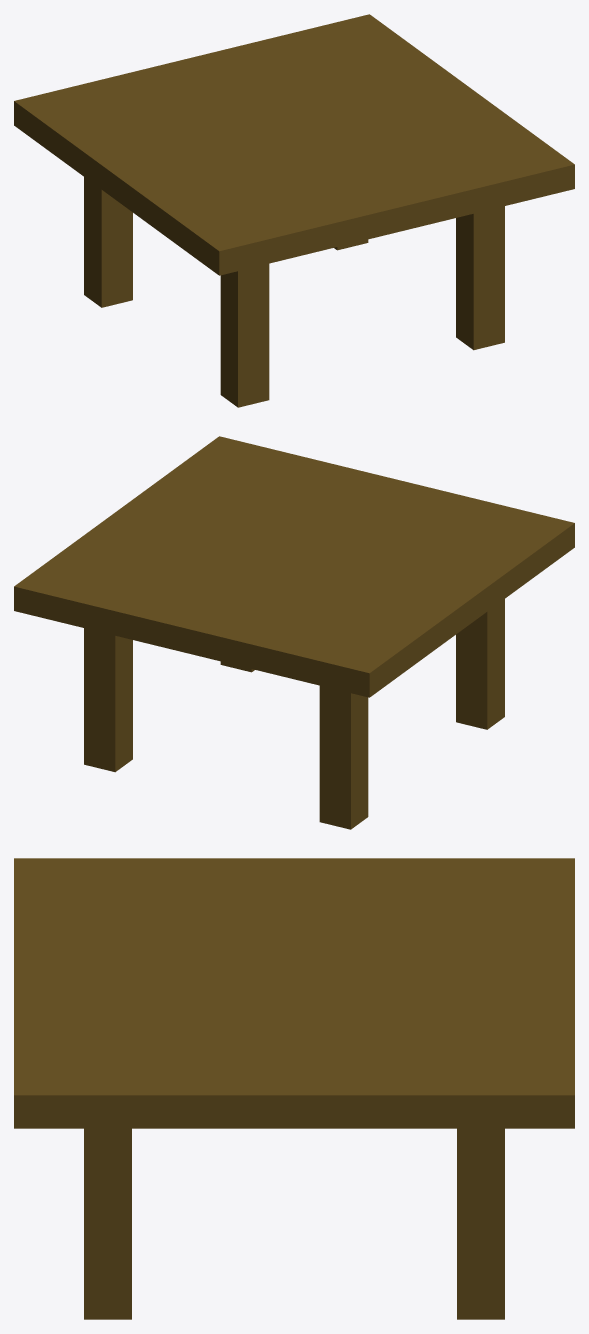
File: Table1.fbx
3 renders of one model, top to bottom at view 1: azimuth 30°, elevation 25°; view 2: azimuth 150°, elevation 25°; view 3: azimuth 270°, elevation 25°, orthographic. The views are drawn at different scales.
Visible parts, largest first — view 1: pCube87; view 2: pCube87; view 3: pCube87.
Part boxes in pixels (<box>): pCube87: <box>14,14,574,407</box>; pCube87: <box>14,436,574,829</box>; pCube87: <box>14,858,574,1319</box>.
Bounding box in the file's own units: 2 × 1 × 2.
